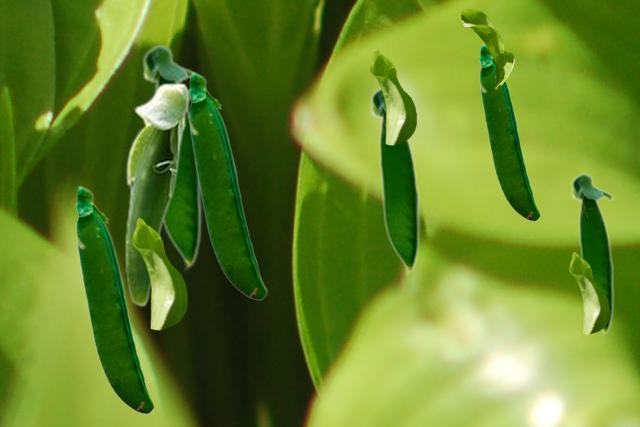pea: (74, 185, 153, 413), (188, 71, 266, 299), (124, 82, 190, 306), (141, 43, 201, 271), (478, 43, 539, 220), (369, 87, 419, 275), (570, 172, 613, 336)
